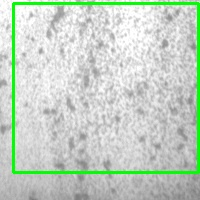pitted_surface: (13, 3, 198, 172)
